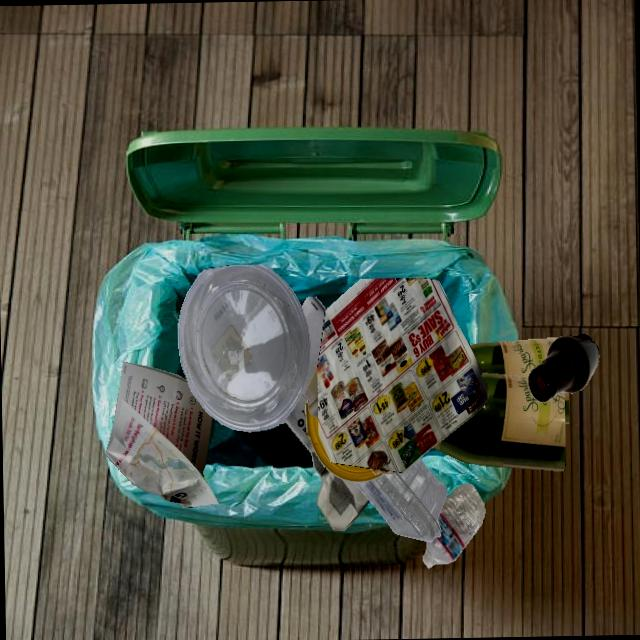cardboard: (369, 468, 394, 474)
glass: (432, 372, 566, 471), (528, 333, 599, 402), (469, 337, 558, 376)
paper: (317, 277, 489, 472), (282, 296, 369, 531), (104, 361, 219, 507), (304, 367, 318, 418)
plastic: (177, 264, 310, 431), (353, 457, 446, 541), (305, 398, 385, 482), (422, 483, 485, 568)
